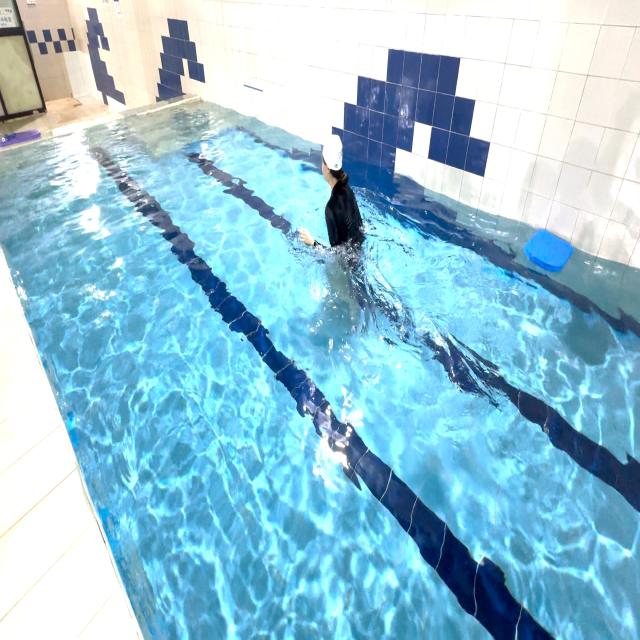Swimming: (299, 130, 365, 287)
